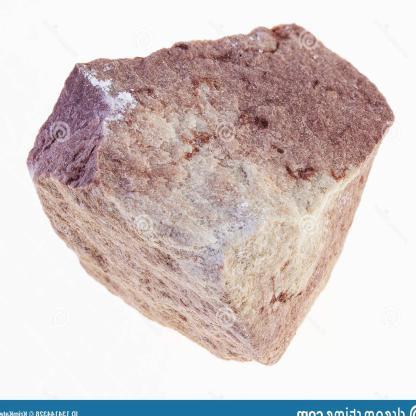Sedimentary_Sandstone: (21, 15, 398, 369)
